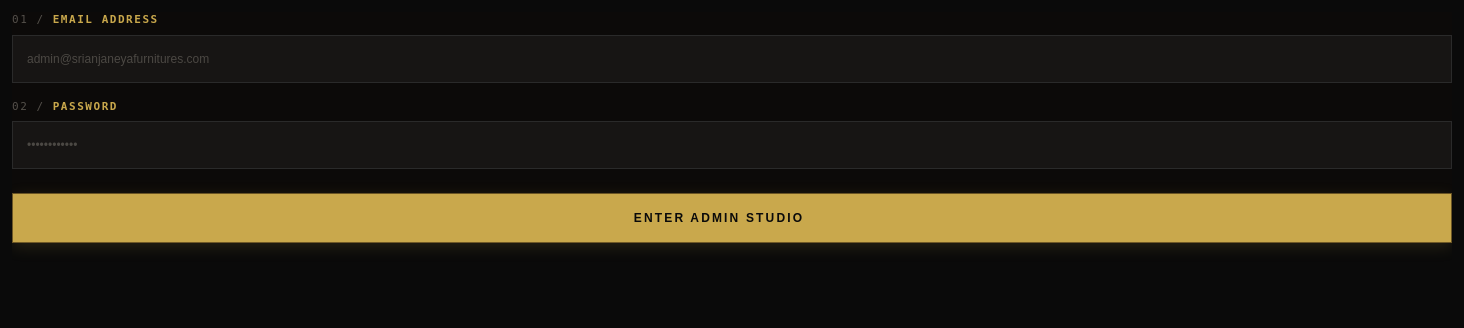
Test: AdminLoginPage — "The Atelier Access Portal" › handles invalid credentials with calm normalized error and keeps email
In the field with placeholder "admin@srianjaneyafurnitures.com": (732, 58) 12,34 -> 1452,82, type "admin@saf.com"
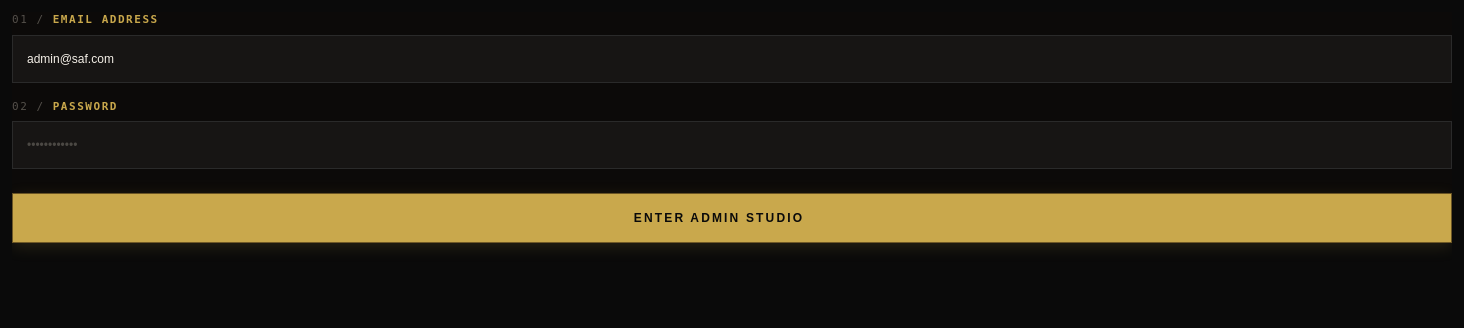
In the password field with placeholder "••••••••••••": (732, 145) 12,121 -> 1452,169, type "wrongpassword"
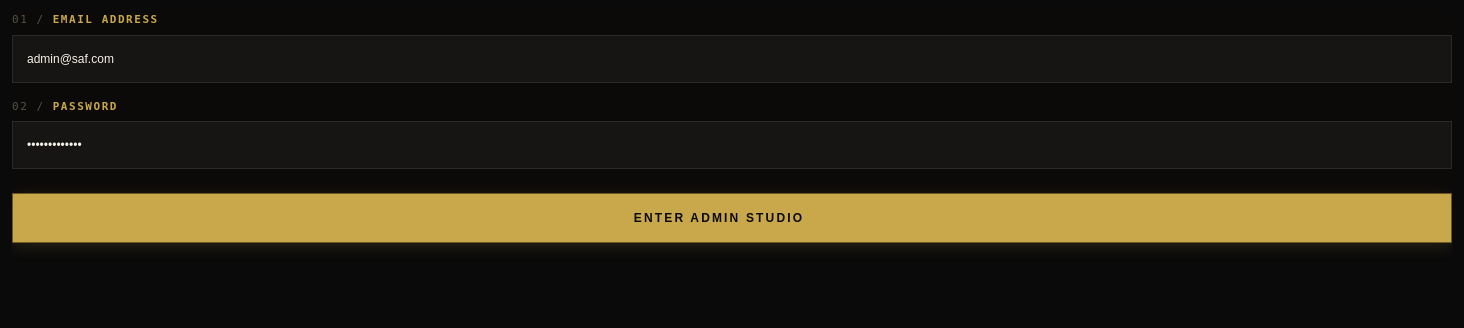
Click the button "Enter Admin Studio": click(732, 218) 12,193 -> 1452,243
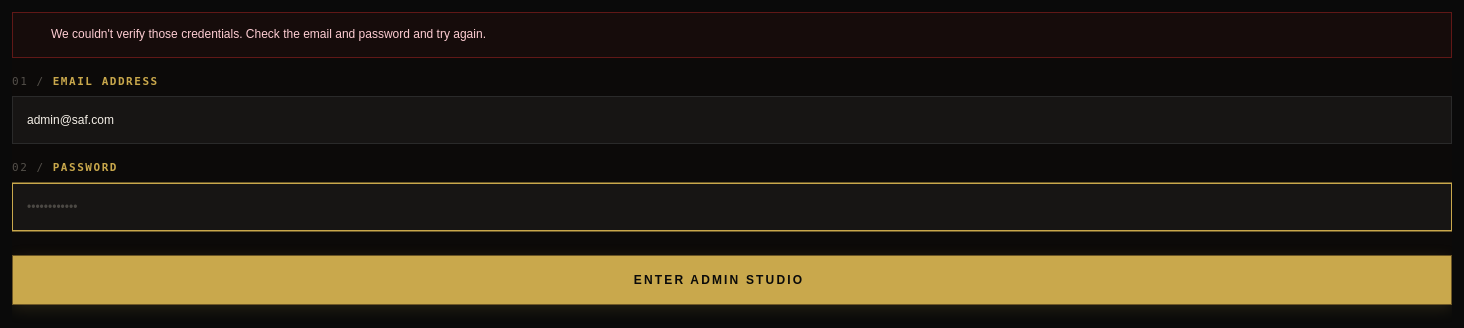
Expected: the text "We couldn't verify those credentials. Check the email and password and try again." is shown, 51,27 -> 486,41
